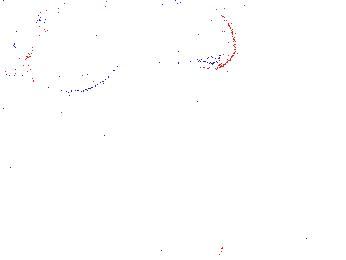moon jellyfish: (25, 1, 126, 91), (146, 2, 237, 71)
